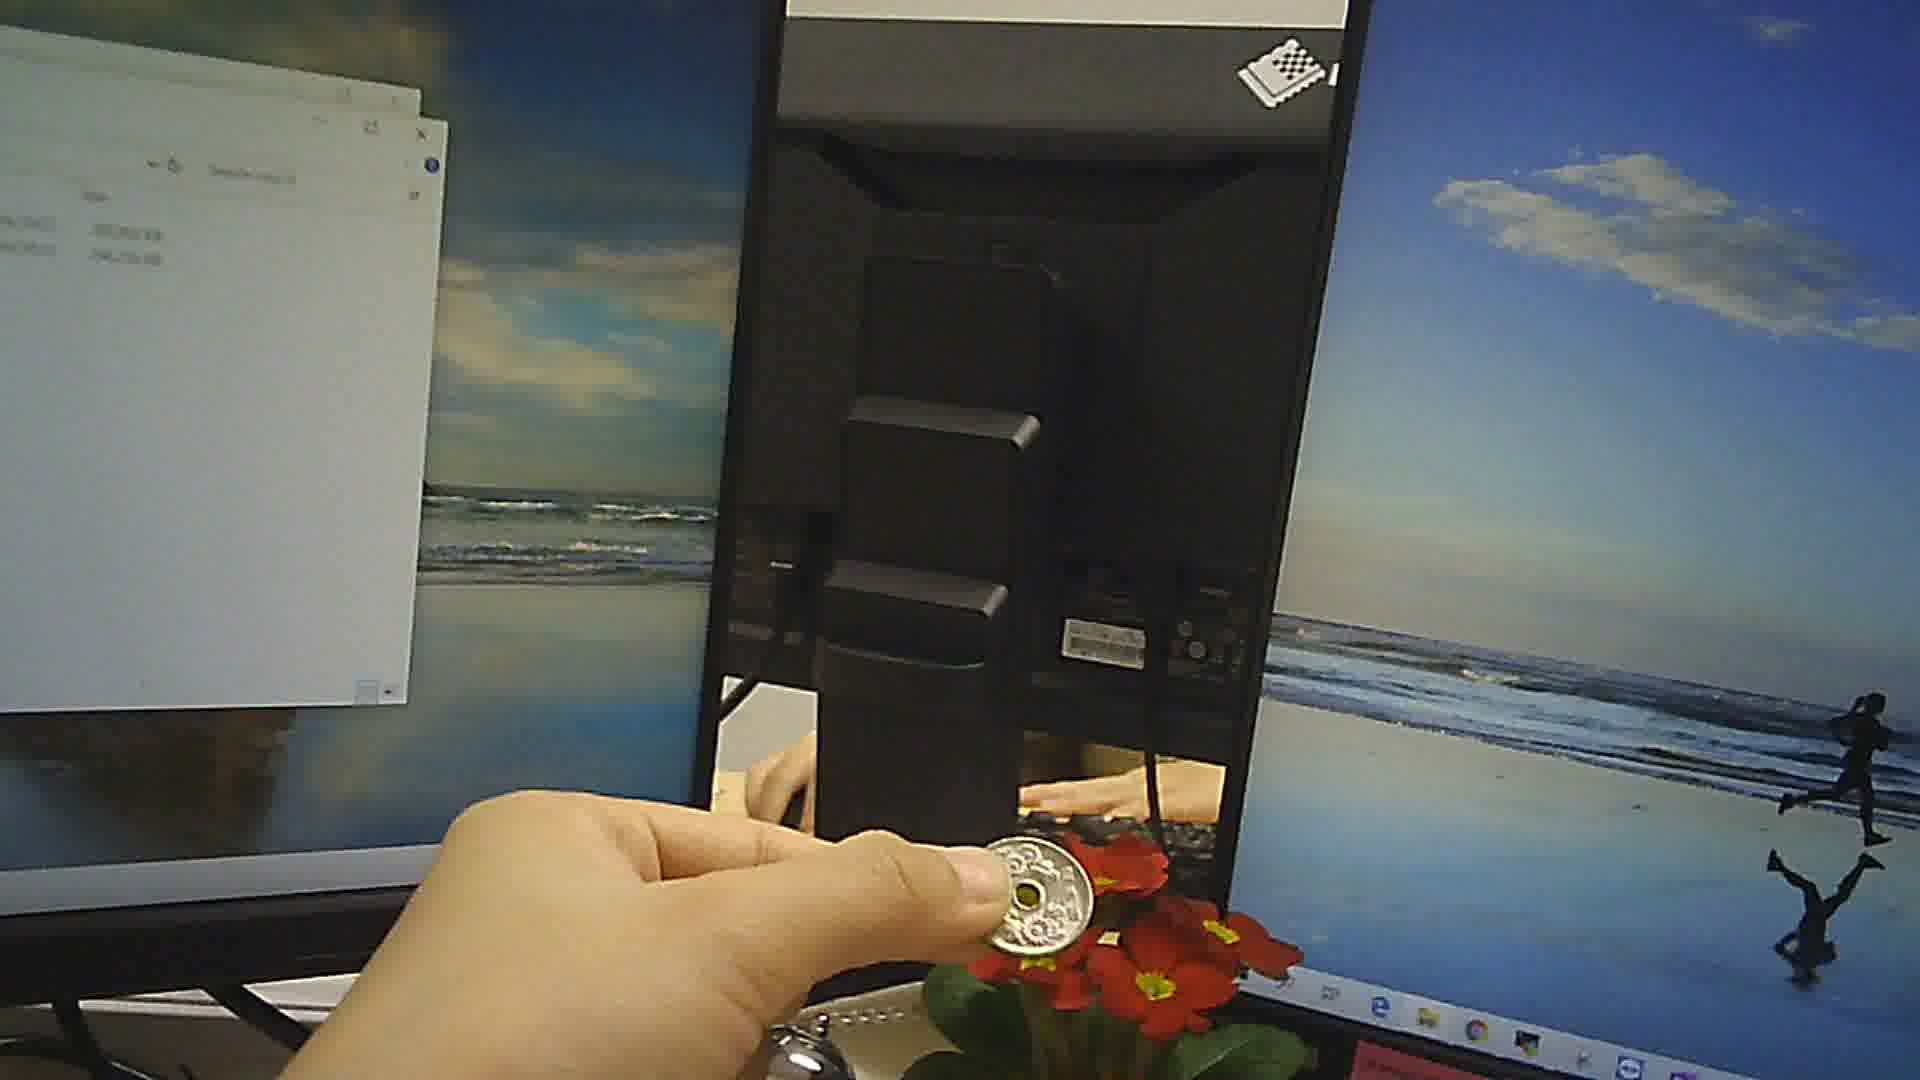50 Yen: (957, 829, 1106, 965)
